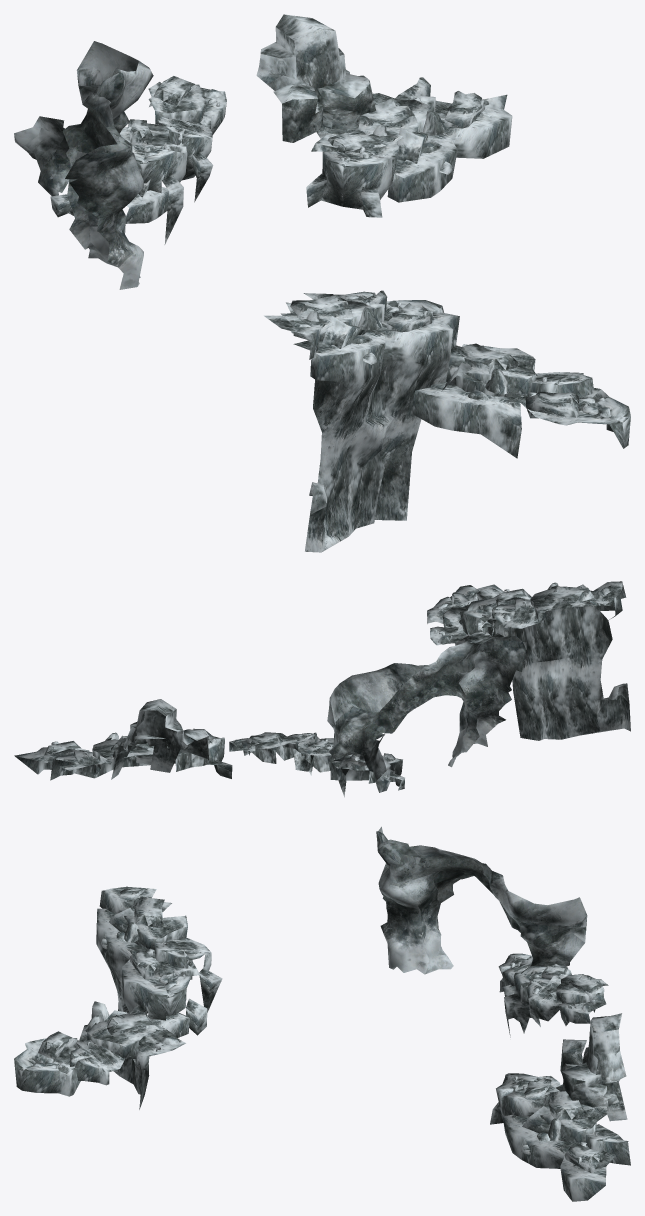
The model's file is S_Rock_White041_1.FBX.
3 views of the same model, one above another, from view 1: azimuth 30°, elevation 25°; view 2: azimuth 150°, elevation 25°; view 3: azimuth 270°, elevation 25° (orthographic). The views are drawn at different scales.
Parts seen in each view (by area): view 1: S_Rock_White041_004, S_Rock_White041_006, S_Rock_White041_001, S_Rock_White041_005, S_Rock_White041_007, S_Rock_White041_003, S_Rock_White041_002; view 2: S_Rock_White041_004, S_Rock_White041_001, S_Rock_White041_006, S_Rock_White041_007, S_Rock_White041_003, S_Rock_White041_005, S_Rock_White041_002; view 3: S_Rock_White041_001, S_Rock_White041_004, S_Rock_White041_006, S_Rock_White041_005, S_Rock_White041_007, S_Rock_White041_003, S_Rock_White041_002.
Boxes of the visible parts, x1,y1,x2,y2 form: S_Rock_White041_004: (264, 290, 465, 552); S_Rock_White041_006: (306, 77, 512, 217); S_Rock_White041_001: (14, 41, 153, 289); S_Rock_White041_005: (411, 343, 630, 458); S_Rock_White041_007: (256, 14, 375, 142); S_Rock_White041_003: (119, 76, 226, 244); S_Rock_White041_002: (50, 179, 169, 223); S_Rock_White041_004: (455, 581, 630, 740); S_Rock_White041_001: (327, 635, 526, 792); S_Rock_White041_006: (14, 728, 232, 780); S_Rock_White041_007: (111, 699, 209, 779); S_Rock_White041_003: (229, 732, 352, 797); S_Rock_White041_005: (427, 584, 504, 645); S_Rock_White041_002: (330, 753, 404, 790); S_Rock_White041_001: (376, 826, 587, 974); S_Rock_White041_004: (91, 886, 222, 1109); S_Rock_White041_006: (490, 1073, 630, 1201); S_Rock_White041_005: (14, 1010, 189, 1096); S_Rock_White041_007: (556, 1013, 627, 1121); S_Rock_White041_003: (504, 963, 608, 1037); S_Rock_White041_002: (498, 953, 532, 1021).
Bounding box in the file's own units: 3718 × 4518 × 1823.
